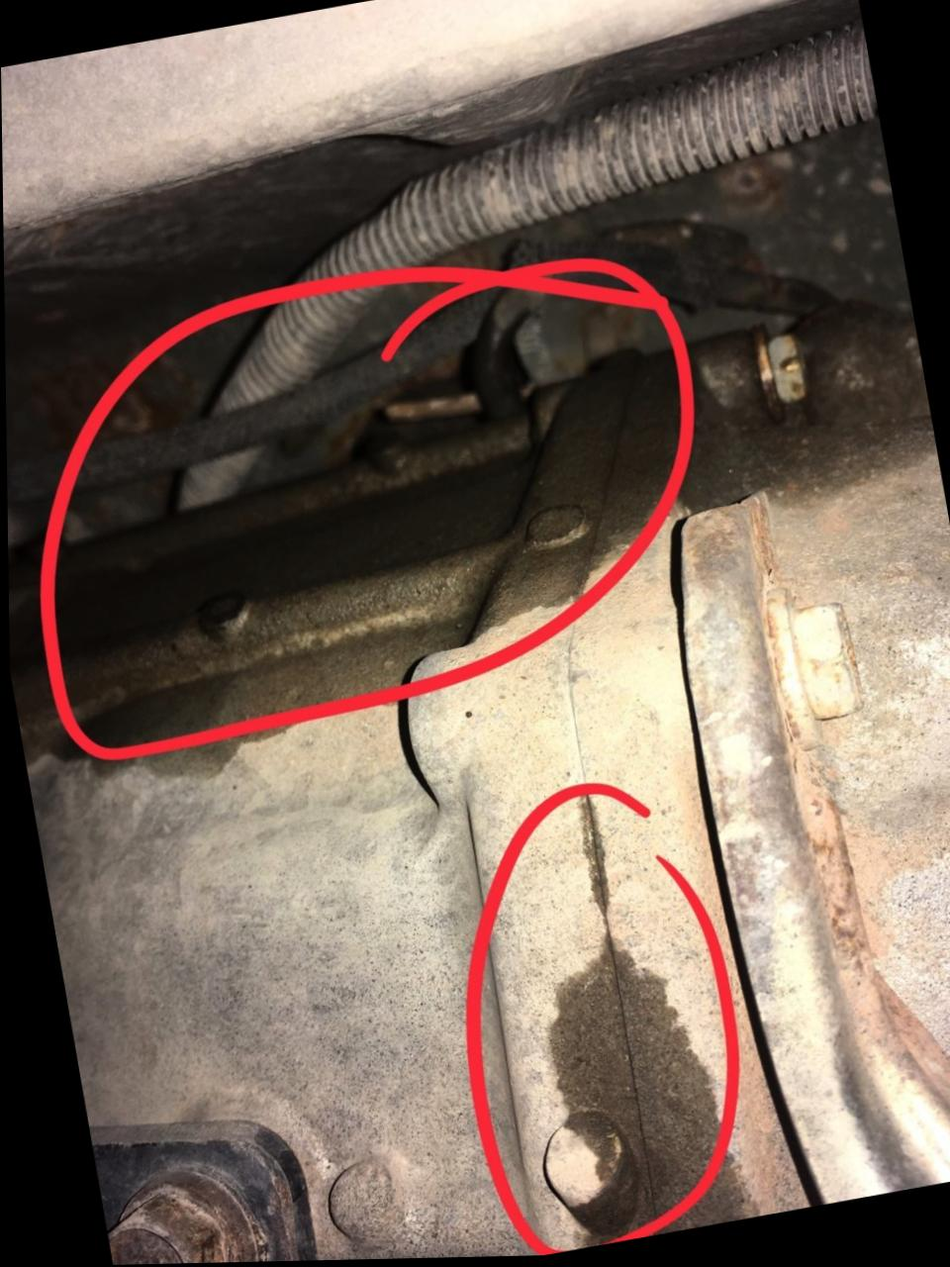leak: (8, 312, 930, 782), (554, 793, 760, 1240)
